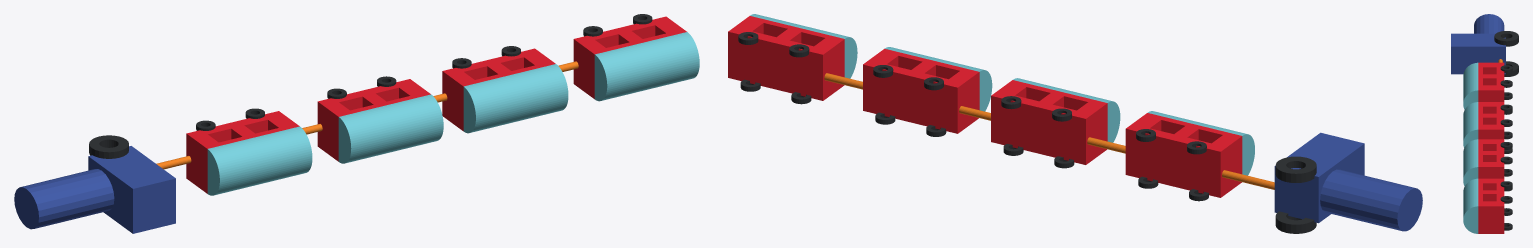
Rendered from tinker.obj.
3 views of the same model, side by side, from view 1: azimuth 30°, elevation 25°; view 2: azimuth 150°, elevation 25°; view 3: azimuth 270°, elevation 25° (orthographic). The views are drawn at different scales.
Visible parts, largest first — view 1: group_0_7720667, group_0_15277357, group_0_3888547, group_0_2829873, group_0_16089887; view 2: group_0_15277357, group_0_3888547, group_0_2829873, group_0_7720667, group_0_16089887; view 3: group_0_15277357, group_0_7720667, group_0_3888547, group_0_2829873.
Boxes of the visible parts, x1,y1,x2,y2 form: group_0_7720667: (207, 32, 699, 195); group_0_15277357: (186, 16, 686, 193); group_0_3888547: (14, 146, 175, 233); group_0_2829873: (89, 14, 652, 158); group_0_16089887: (156, 61, 578, 169); group_0_15277357: (728, 16, 1242, 197); group_0_3888547: (1274, 132, 1422, 231); group_0_2829873: (738, 32, 1316, 233); group_0_7720667: (750, 14, 1254, 175); group_0_16089887: (824, 73, 1274, 189); group_0_15277357: (1478, 62, 1504, 233); group_0_7720667: (1463, 62, 1478, 233); group_0_3888547: (1451, 14, 1505, 74); group_0_2829873: (1494, 31, 1518, 230).
Size of the model in its own units: 303 by 26 by 44.55.
